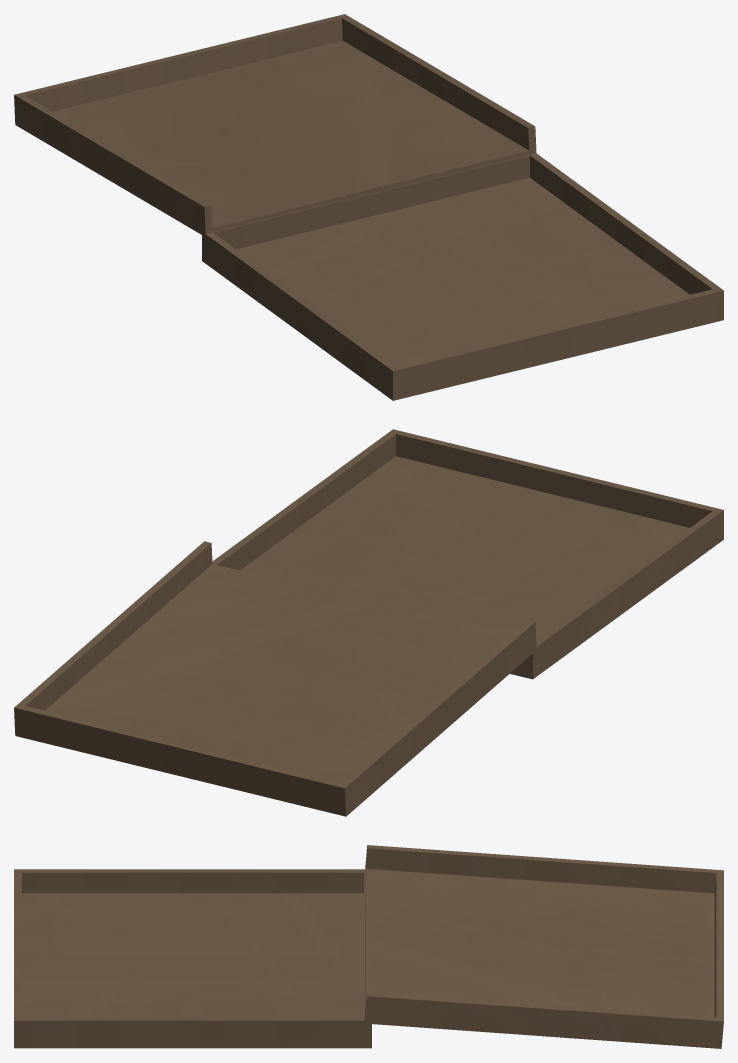
Rendered from pizzaBOX_withUV.fbx.
3 renders of one model, top to bottom at view 1: azimuth 30°, elevation 25°; view 2: azimuth 150°, elevation 25°; view 3: azimuth 270°, elevation 25°, orthographic. The views are drawn at different scales.
Parts seen in each view (by area): view 1: Plane.001; view 2: Plane.001; view 3: Plane.001.
Part boxes in pixels (<box>): Plane.001: <box>14,14,723,400</box>; Plane.001: <box>14,429,723,816</box>; Plane.001: <box>14,845,723,1048</box>.
Bounding box in the file's own units: 23.21 × 3.78 × 46.05.
